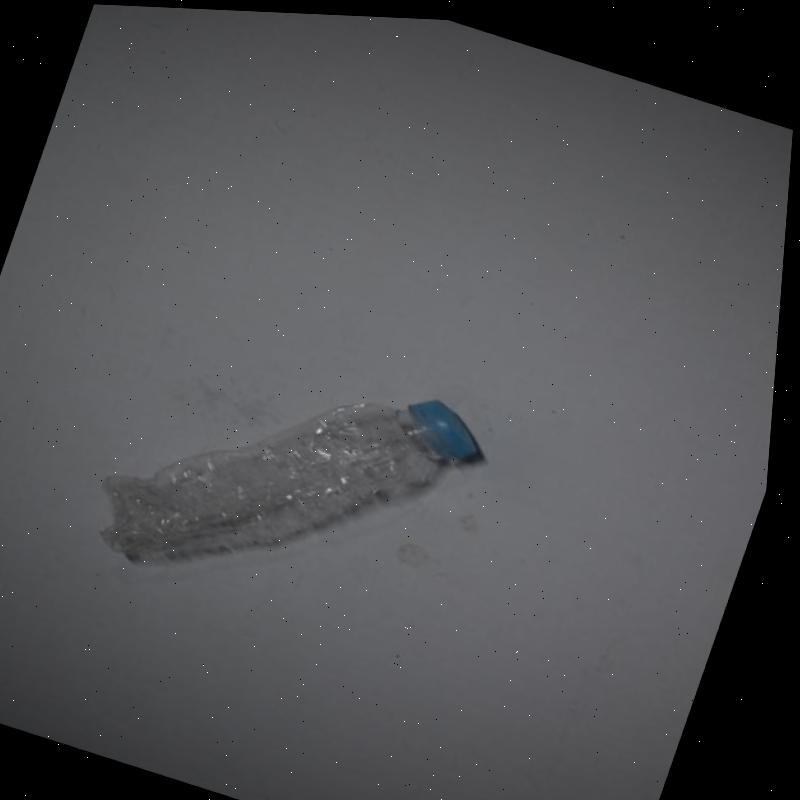botella: (90, 305, 517, 652)
